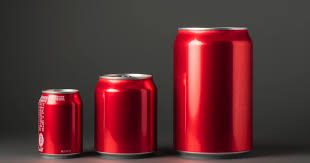can: (172, 26, 256, 157), (94, 72, 160, 158), (37, 87, 85, 159)
